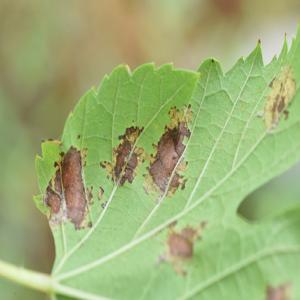Folha: (32, 21, 299, 298)
Fungo: (43, 103, 192, 230), (146, 103, 192, 198), (44, 145, 90, 230), (157, 219, 208, 276), (257, 65, 296, 134), (112, 124, 145, 186), (44, 161, 67, 228), (114, 139, 131, 179), (265, 280, 292, 299), (44, 185, 61, 214), (100, 160, 113, 180), (97, 186, 107, 208), (125, 152, 137, 170), (54, 168, 62, 194), (86, 184, 93, 204), (97, 186, 104, 200), (101, 200, 107, 209)
